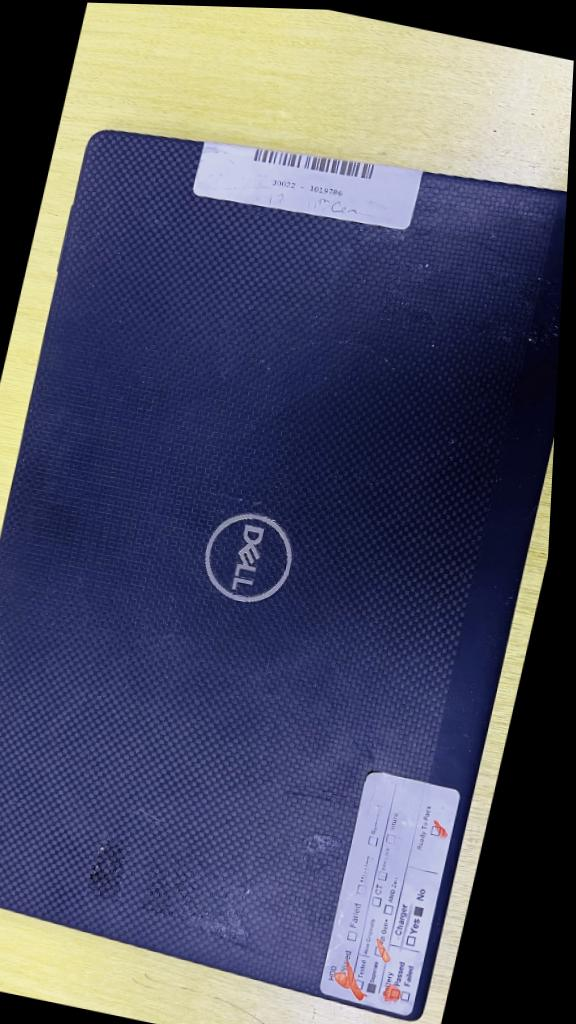scratch: (293, 782, 367, 806), (137, 807, 168, 824), (146, 805, 169, 820), (372, 745, 384, 760)
stain: (153, 855, 263, 944), (467, 263, 564, 347), (382, 250, 466, 328), (260, 336, 400, 369), (96, 838, 133, 896), (298, 829, 350, 870), (343, 218, 411, 243), (216, 486, 267, 505)
